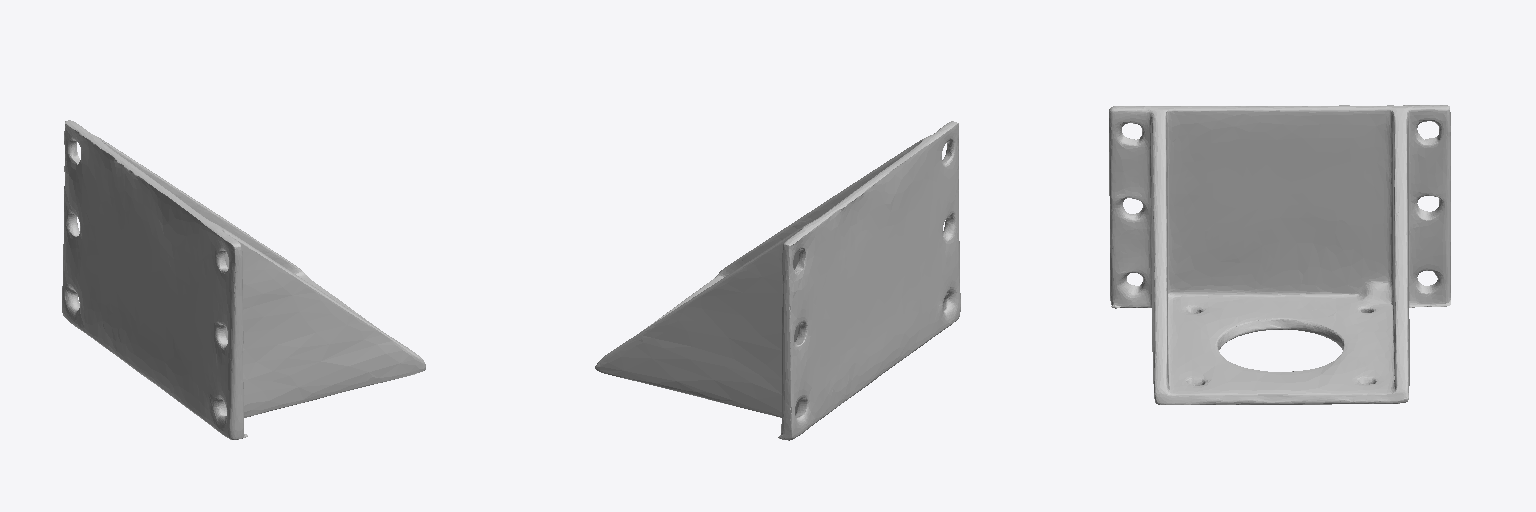
The model's file is nema17_holder_collision.obj.
3 renders of one model, left to right at view 1: azimuth 30°, elevation 25°; view 2: azimuth 150°, elevation 25°; view 3: azimuth 270°, elevation 25°, orthographic.
Parts seen in each view (by area): view 1: nema17_holder; view 2: nema17_holder; view 3: nema17_holder.
Boxes of the visible parts, <box> form: nema17_holder: <box>62,120,425,439</box>; nema17_holder: <box>595,121,960,440</box>; nema17_holder: <box>1109,105,1450,404</box>.
Size of the model in its own units: 0.0459 by 0.0398 by 0.0621.